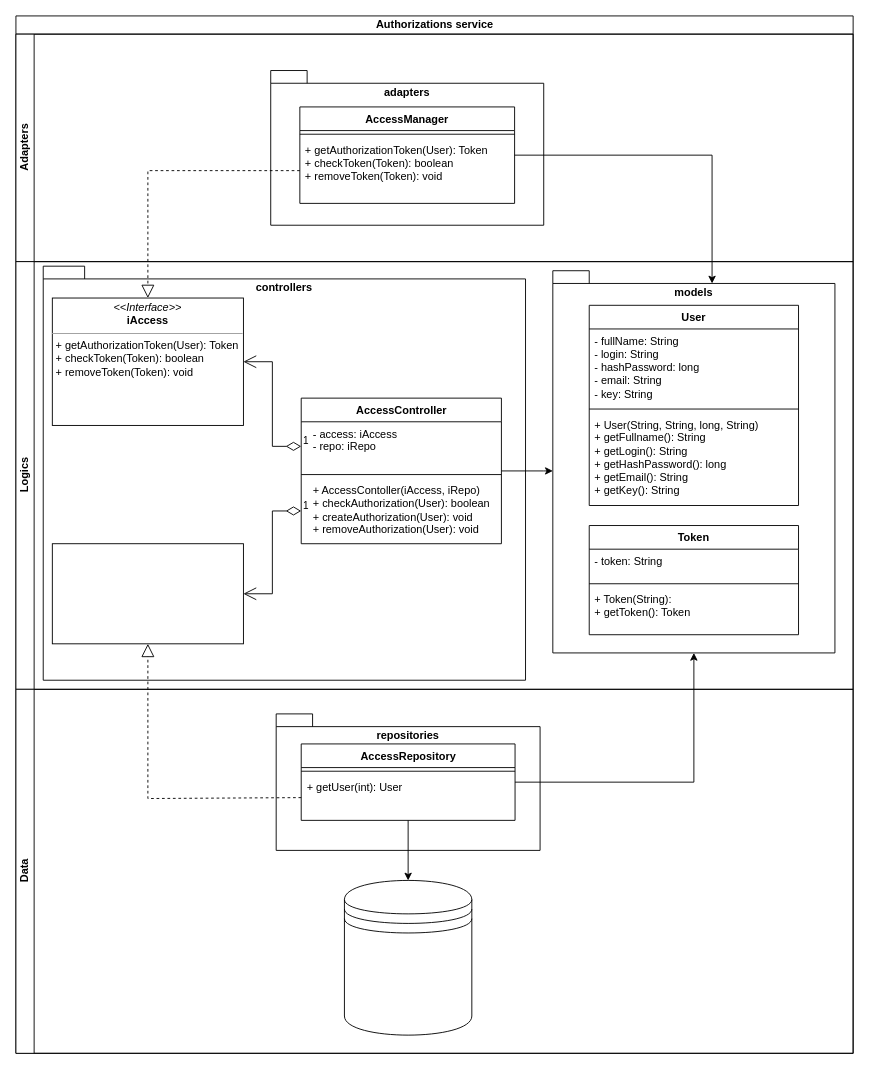
Some shapes in this 869 by 1069 pixel diagram are drawn without their labels. Here are the shapes that lost their labels. From the top down, the centre of each, then its label:
At pixel 147 593: "<<Interface>> iRepo + getUser(int): User".
At pixel 408 957: "DB".
